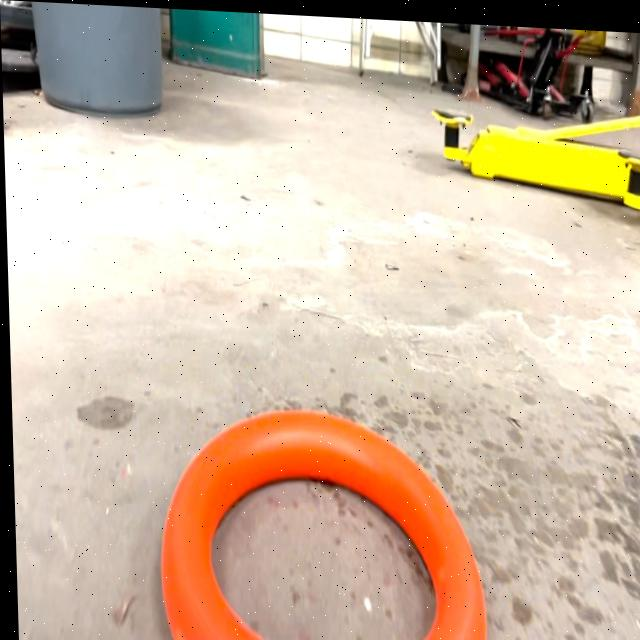note: (155, 421, 483, 640)
